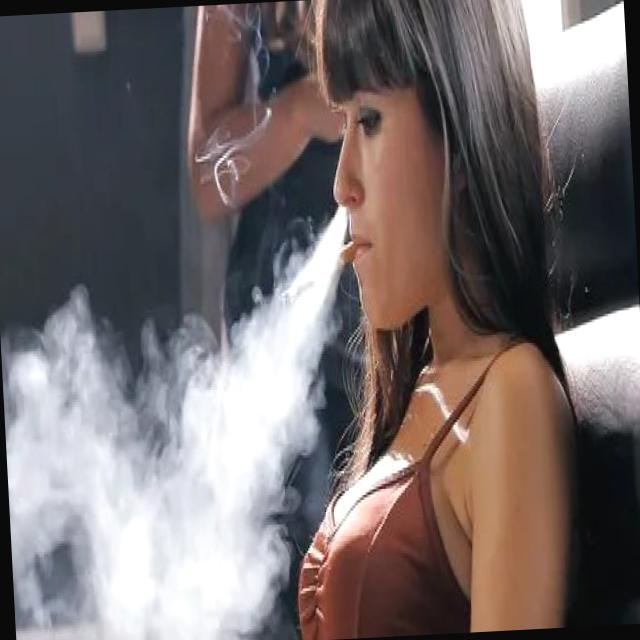cigarette: (274, 236, 364, 316)
